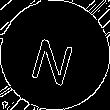N_N: (29, 25, 81, 85)
